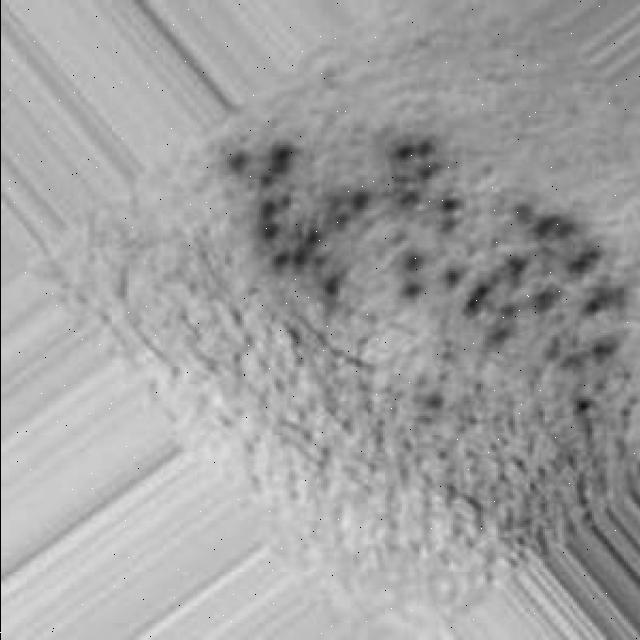Shingles: (226, 134, 624, 412)
